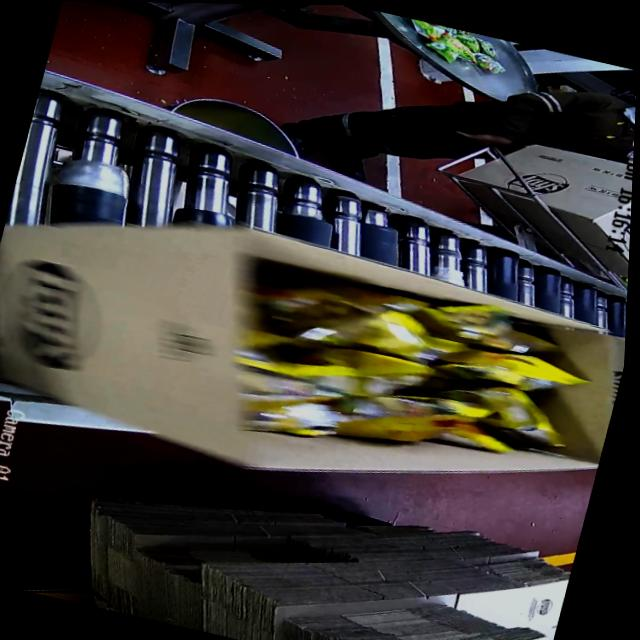SALTED: (234, 253, 590, 485)
